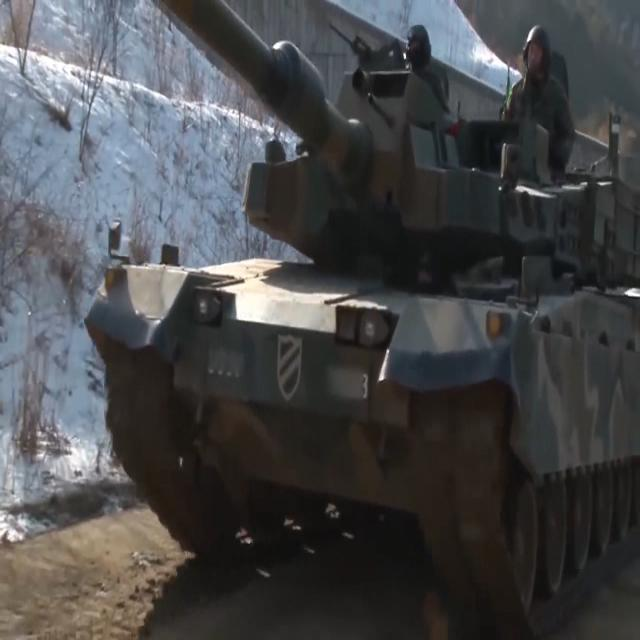korea tank: (78, 1, 640, 640)
